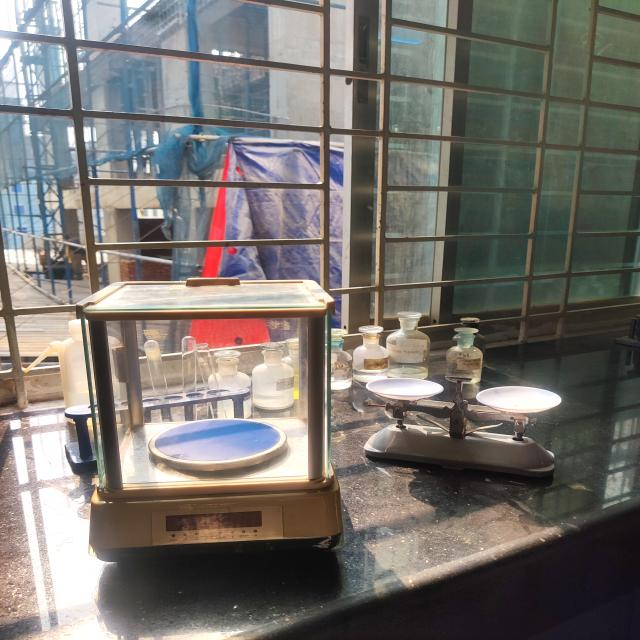Mechanical_Balance_Scale: (360, 357, 598, 510)
Precision_Weight_Scale: (58, 261, 358, 566)
